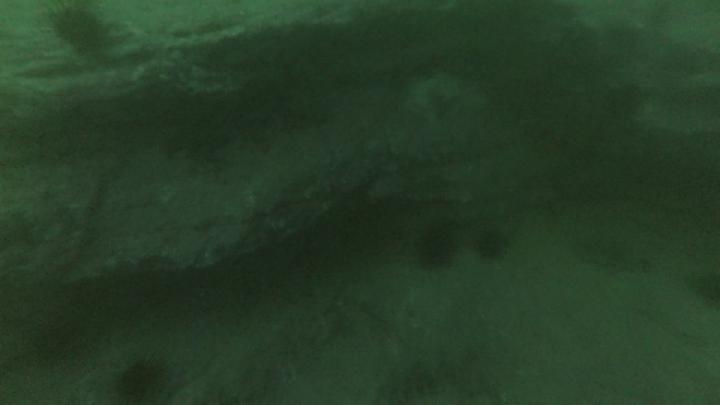echinus: (43, 1, 118, 53), (109, 354, 163, 405), (410, 223, 461, 266), (477, 223, 516, 265)
